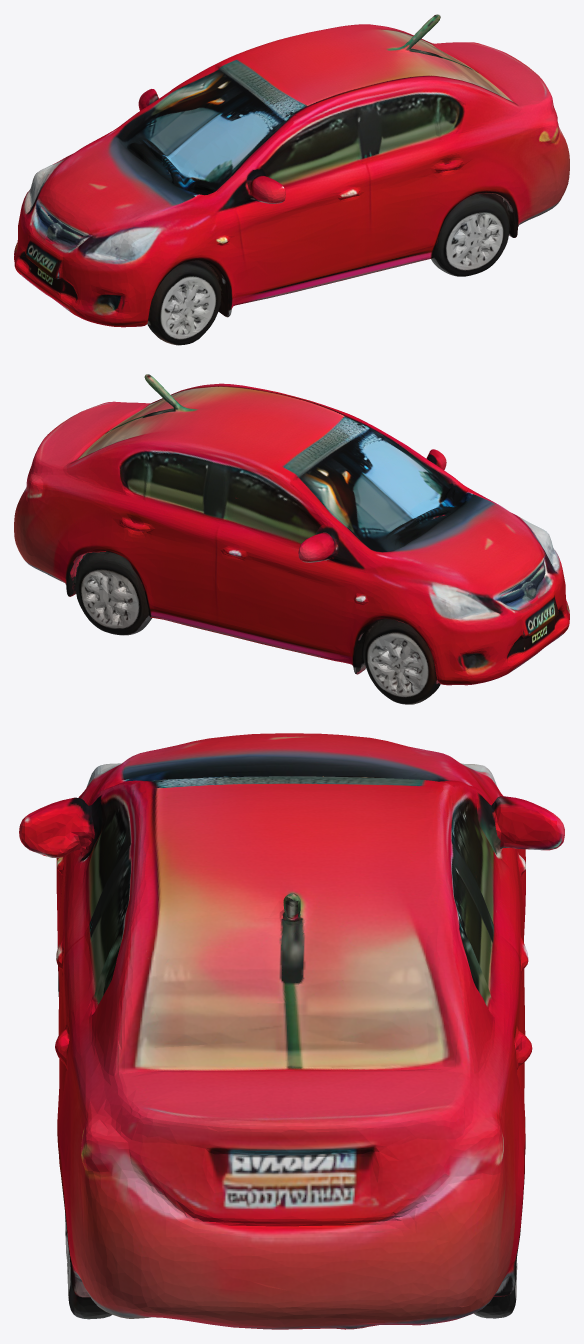
3 renders of one model, top to bottom at view 1: azimuth 30°, elevation 25°; view 2: azimuth 150°, elevation 25°; view 3: azimuth 270°, elevation 25°, orthographic. The views are drawn at different scales.
Visible parts, largest first — view 1: textured_mesh; view 2: textured_mesh; view 3: textured_mesh.
Part boxes in pixels (<box>): textured_mesh: <box>14,14,569,345</box>; textured_mesh: <box>14,374,569,704</box>; textured_mesh: <box>19,733,564,1329</box>.
Size of the model in its own units: 2 by 0.8286 by 0.9458.
1 material, 1 textured.
